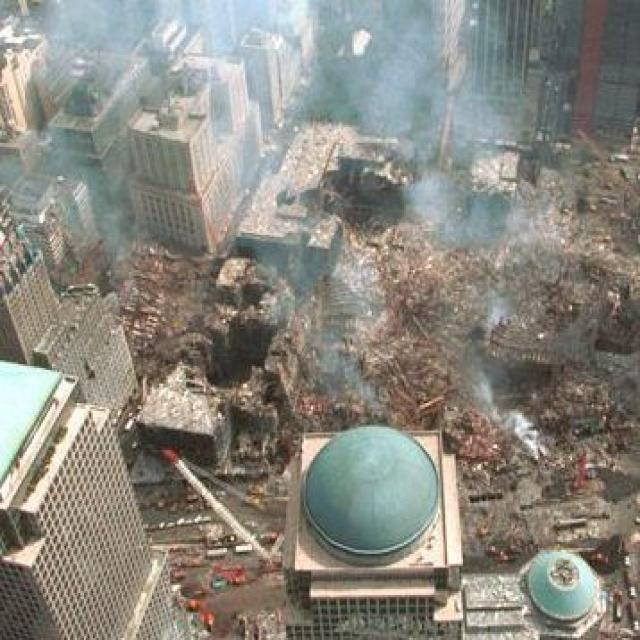collapsed_building: (365, 219, 638, 452), (129, 272, 304, 478), (232, 121, 408, 276), (70, 235, 182, 356)
